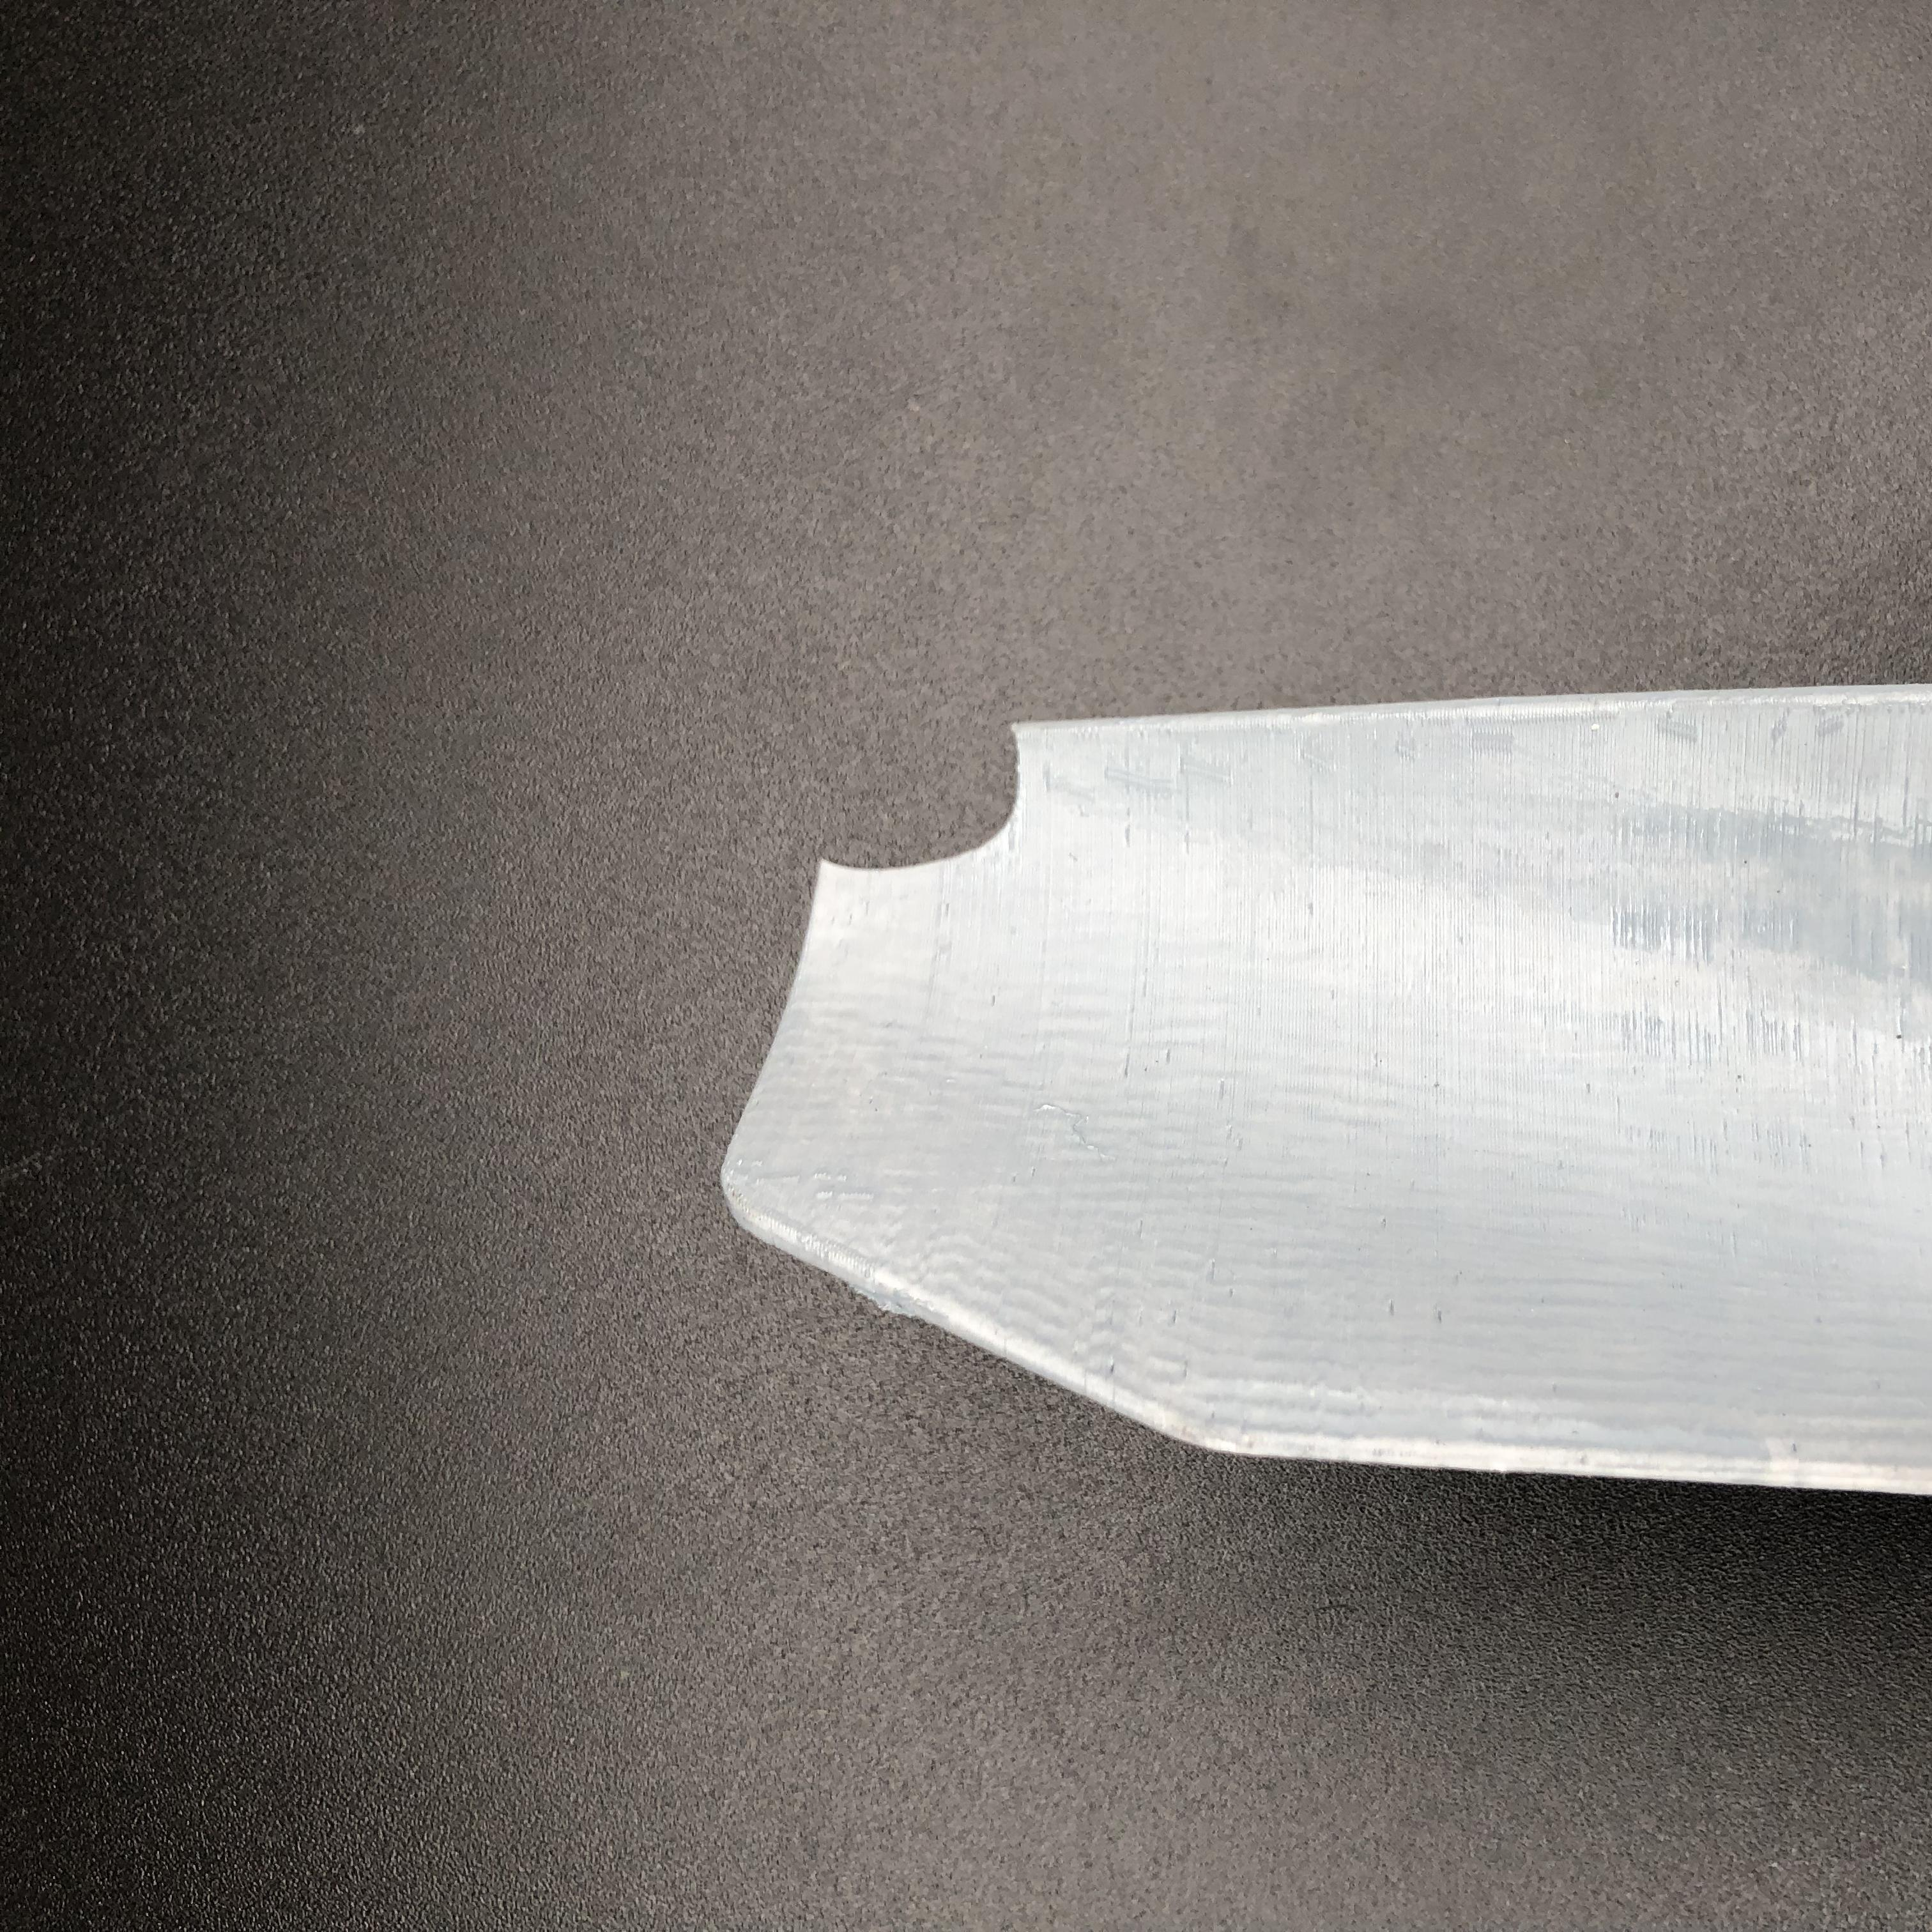fracture: (826, 747, 1065, 874)
